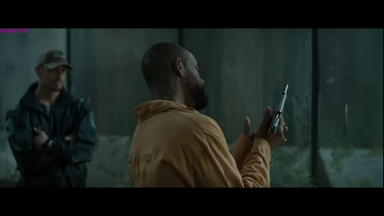firearm: (261, 81, 293, 138)
